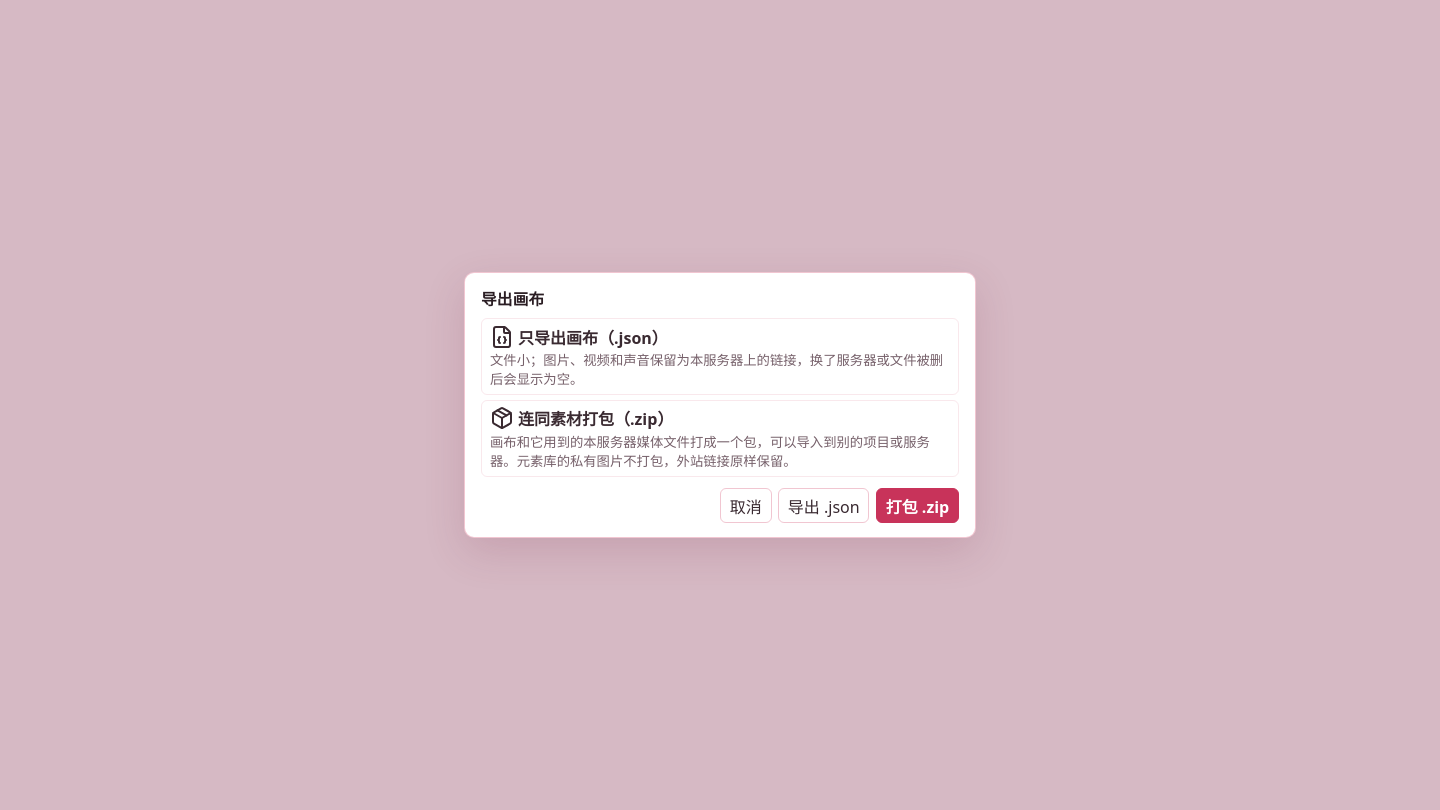
exporting a canvas › says why when packing is refused
This screenshot has width=1440, height=810.
Click the button "打包 .zip" at (917, 506), box [876,488,959,523]
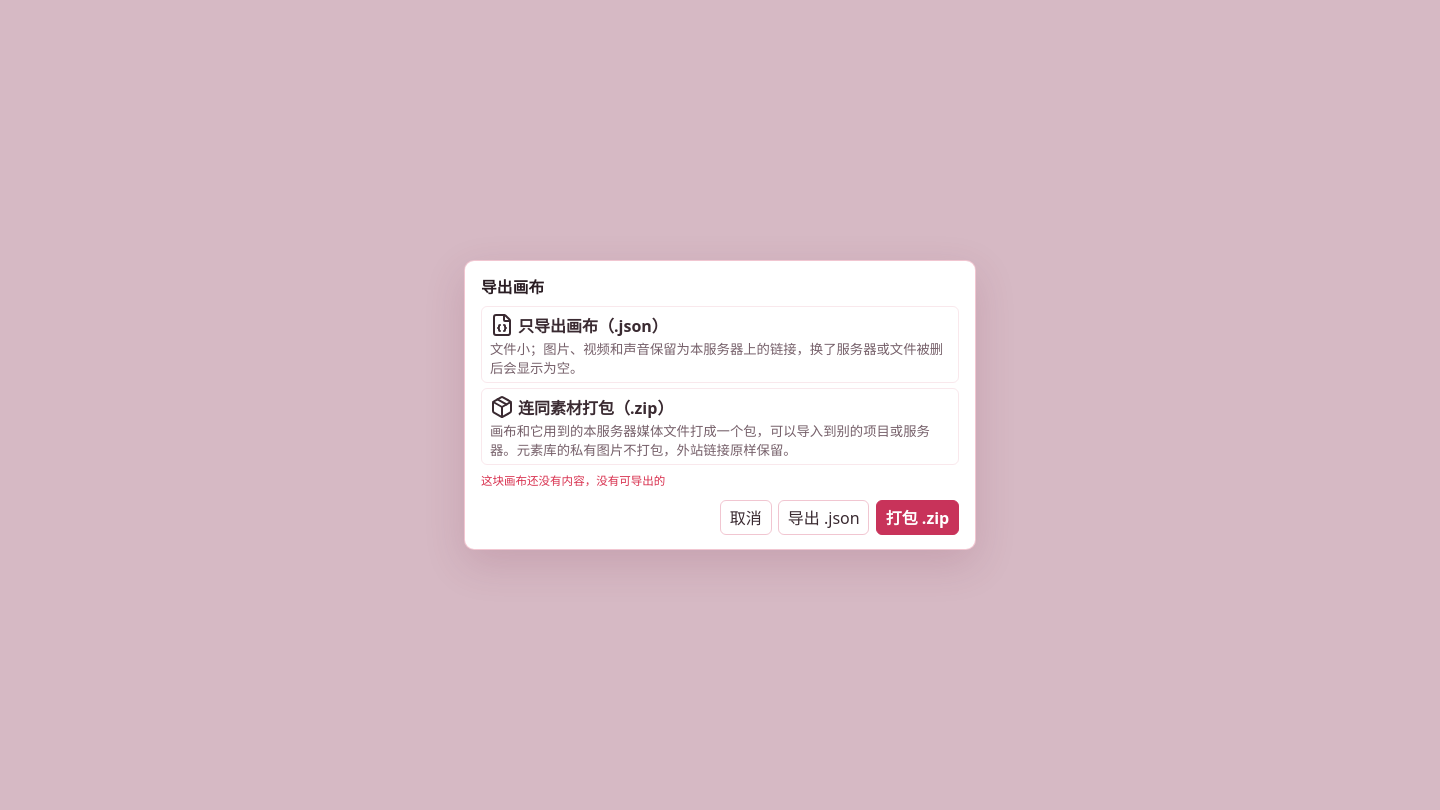
Expected: the message reads "这块画布还没有内容，没有可导出的", [481,473,665,488]
